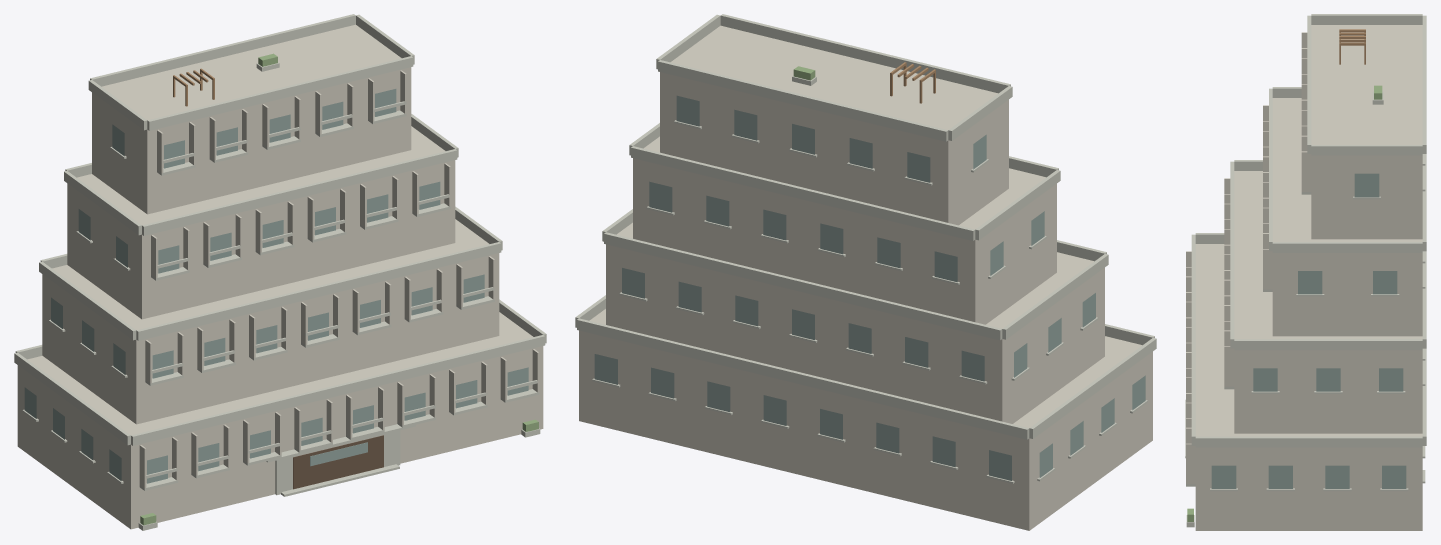
File: residential_4x2_terraces.glb
3 views of the same model, side by side, from view 1: azimuth 30°, elevation 25°; view 2: azimuth 150°, elevation 25°; view 3: azimuth 270°, elevation 25° (orthographic). The views are drawn at different scales.
Parts seen in each view (by area): view 1: residential_4x2_terraces_0; view 2: residential_4x2_terraces_0; view 3: residential_4x2_terraces_0.
Boxes of the visible parts, x1=… form: residential_4x2_terraces_0: x1=14, y1=14, x2=546, y2=530; residential_4x2_terraces_0: x1=575, y1=14, x2=1156, y2=530; residential_4x2_terraces_0: x1=1185, y1=14, x2=1426, y2=530.
Size of the model in its own units: 31 by 25.5 by 15.4.
